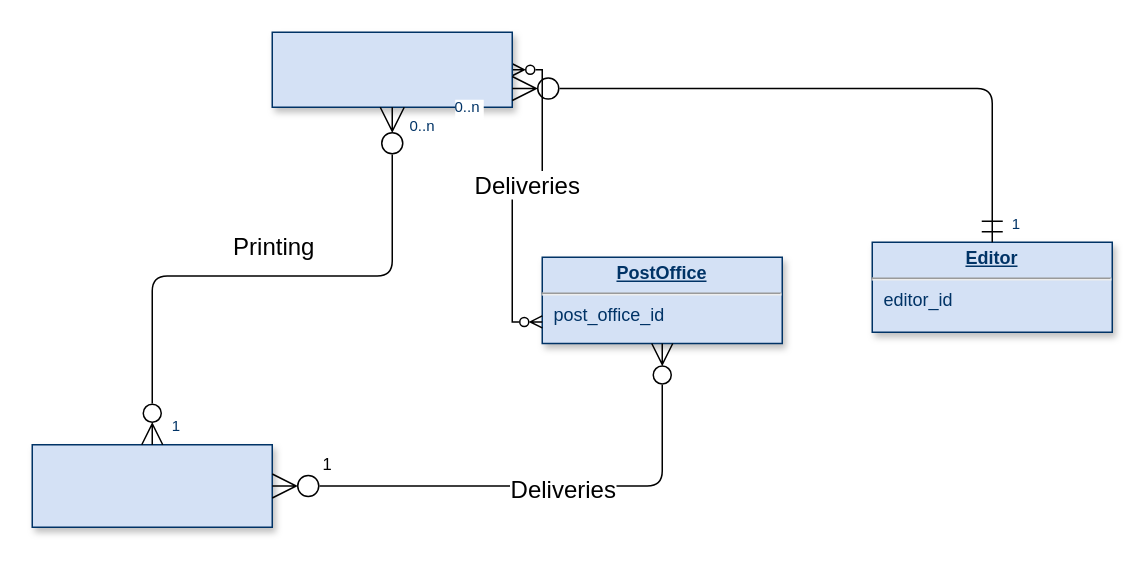
This 1148x564 diagram has some shape labels left out. The shapes that lost their labels are listed below. From the top down, each one's centre as x and y in pixels, then its label:
At [393,71]: "Newspaper newspaper_id".
At [153,487]: "PrintingHouse printing_house_id".
